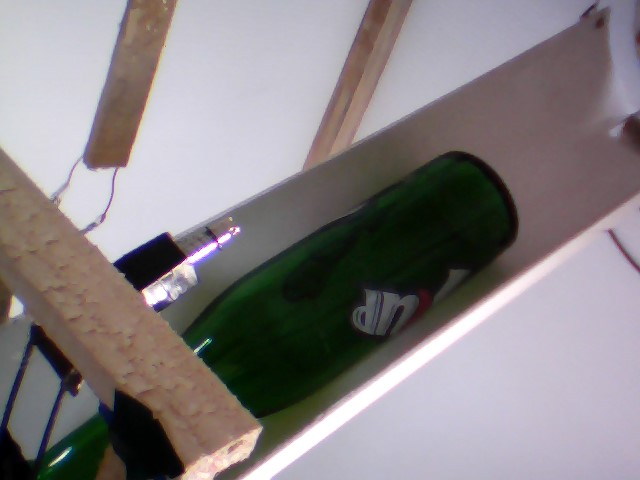vidrio: (175, 142, 529, 413)
